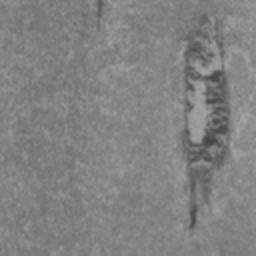Oxide scale of plate system: (178, 10, 232, 232)
